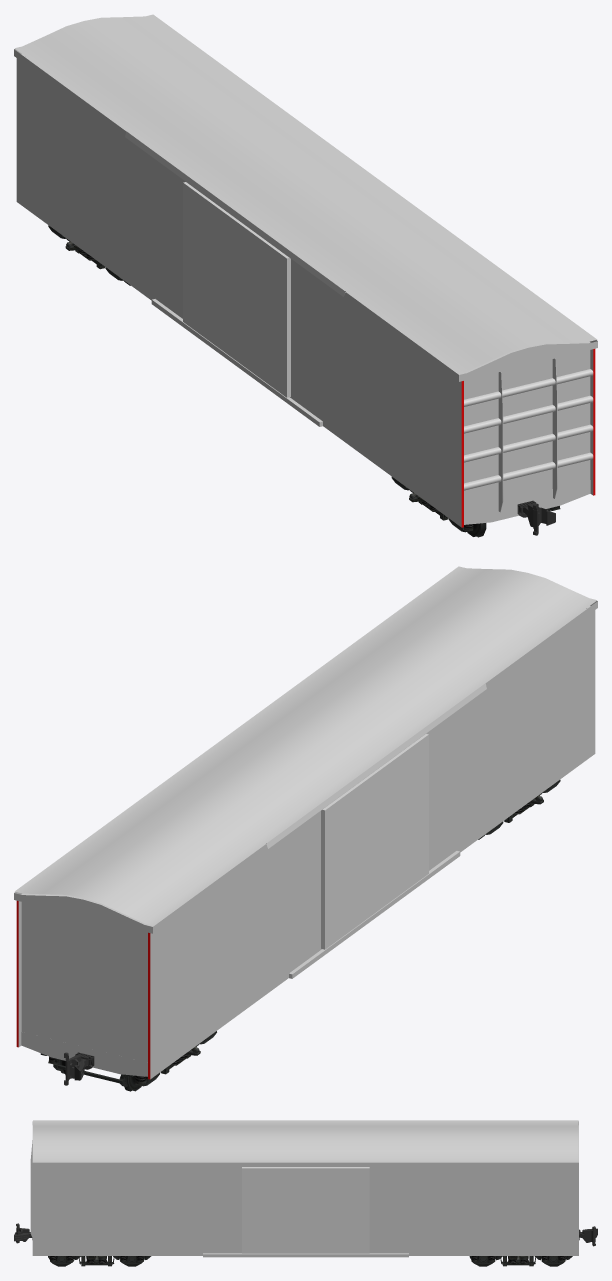
The model's file is 重载货运车厢20m优化版本.fbx.
3 renders of one model, top to bottom at view 1: azimuth 30°, elevation 25°; view 2: azimuth 150°, elevation 25°; view 3: azimuth 270°, elevation 25°, orthographic. The views are drawn at different scales.
Visible parts, largest first — view 1: 车厢外壳001, 车厢车门001, 红色车顶线001, 重载火车车厢零件001, 车轮001; view 2: 车厢外壳001, 车厢车门001, 车轮, 红色车顶线001; view 3: 车厢外壳001, 车厢车门001, 车轮, 车轮001, 重载火车车厢零件001.
Boxes of the visible parts, x1,y1,x2,y2 form: 车厢外壳001: (14,14,597,527); 车厢车门001: (183,182,290,397); 红色车顶线001: (461,349,595,527); 重载火车车厢零件001: (517,500,555,535); 车轮001: (391,477,560,537); 车厢外壳001: (14,566,597,1079); 车厢车门001: (321,734,428,949); 车轮: (40,1031,216,1091); 红色车顶线001: (16,900,150,1079); 车厢外壳001: (30,1120,578,1257); 车厢车门001: (242,1167,369,1253); 车轮: (469,1256,572,1266); 车轮001: (48,1256,151,1266); 重载火车车厢零件001: (14,1223,597,1246).
Bounding box in the file's own units: 137 × 182 × 787.
